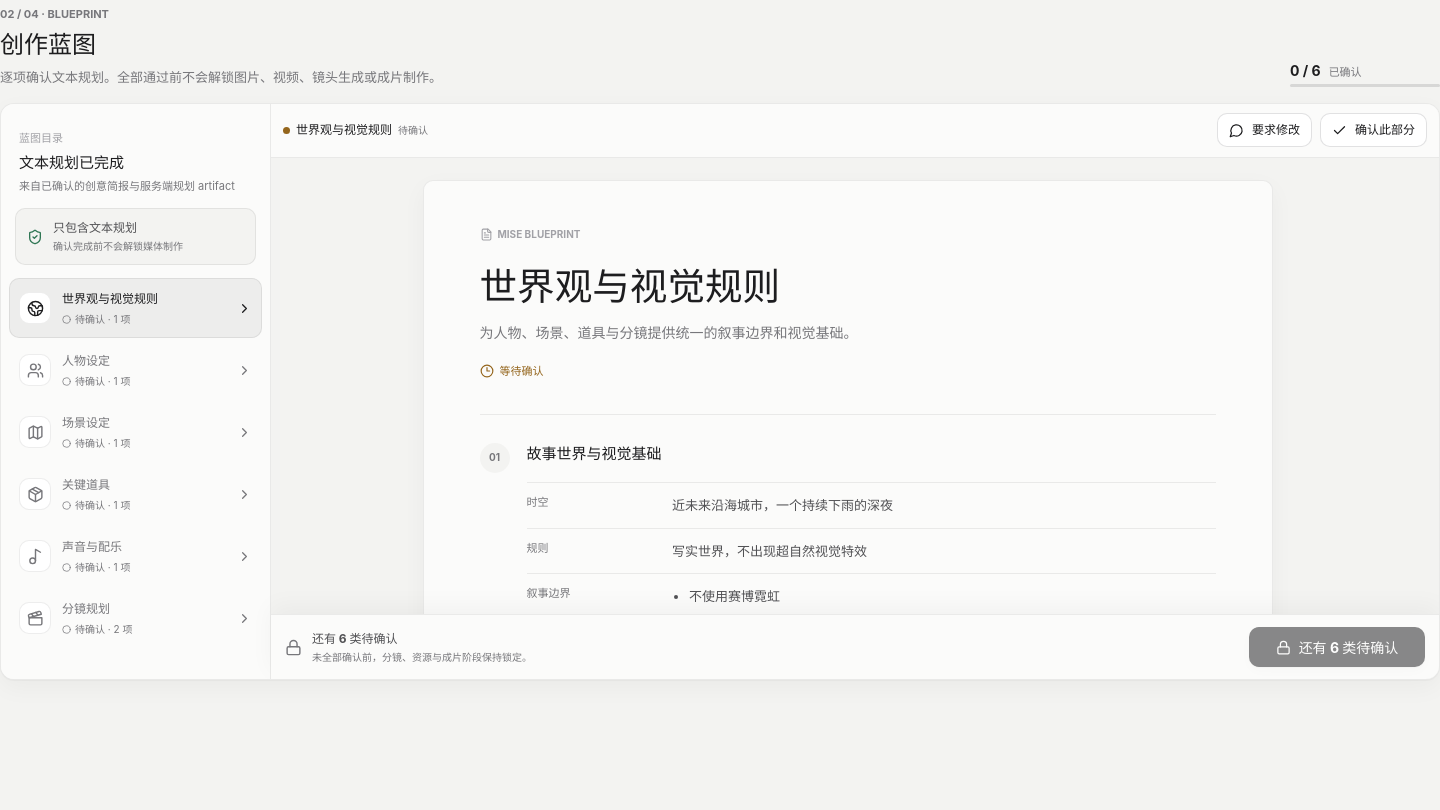
PlanReviewPage › explains a recoverable revision conflict and preserves the draft for retry
Click the button "要求修改". click: [1264, 130]
box: [1217,113,1312,147]
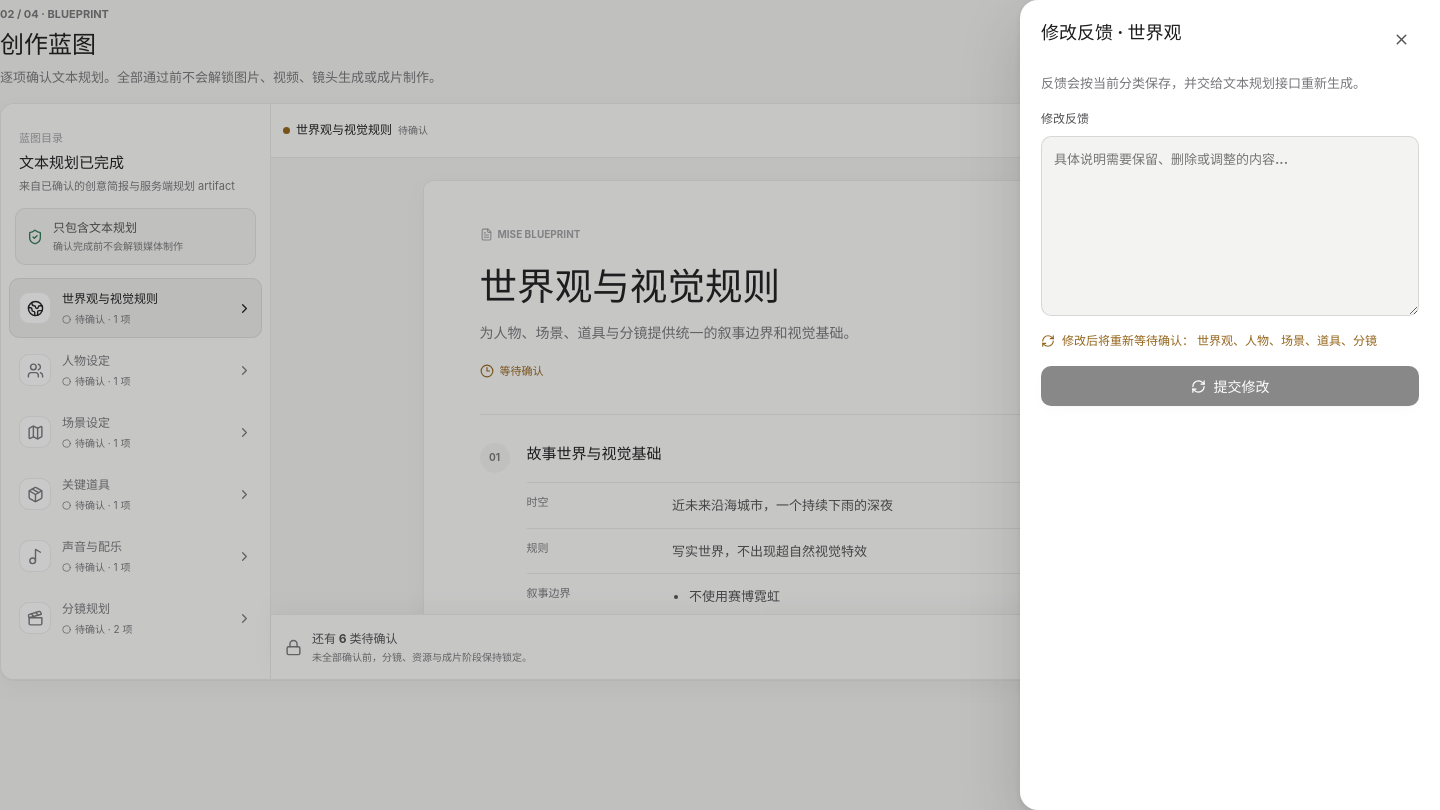
Type "基于最新版本继续调整" into the text box labelled "修改反馈". click: [1230, 226]
box: [1041,136,1419,316]
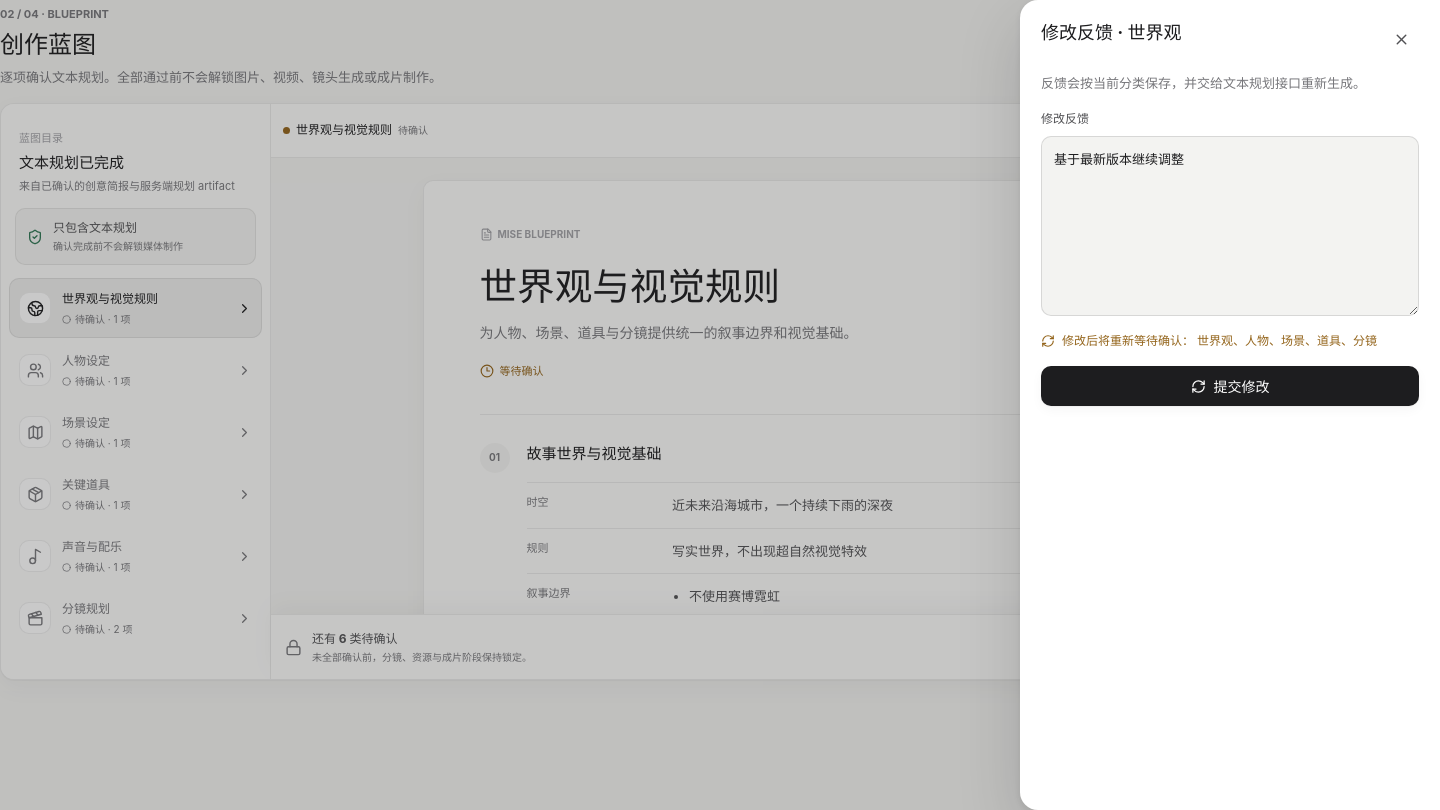
Click the button "提交修改". click: [1230, 386]
box: [1041,366,1419,406]
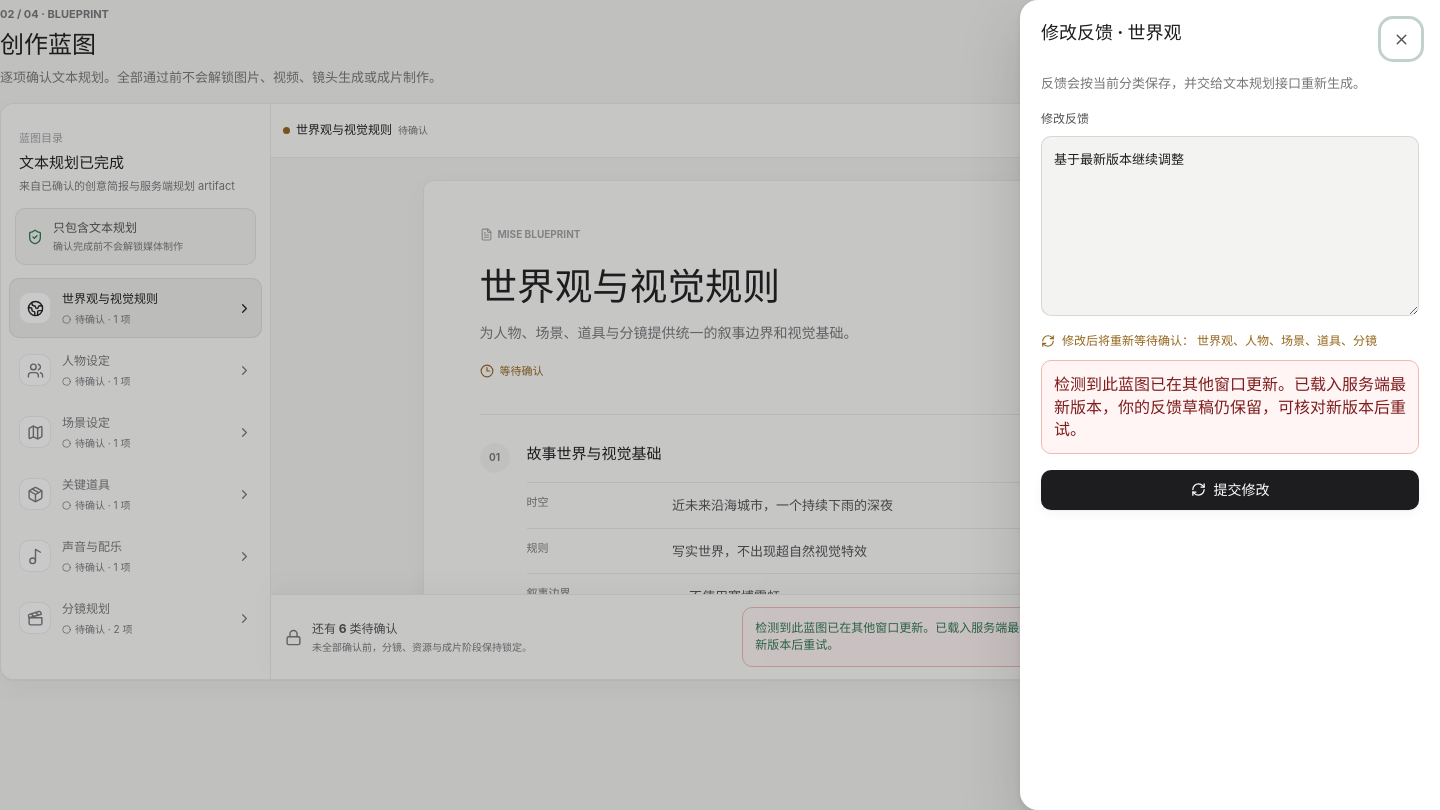
Expected: the message shows "已载入服务端最新版本", [1054,374,1406,439]
